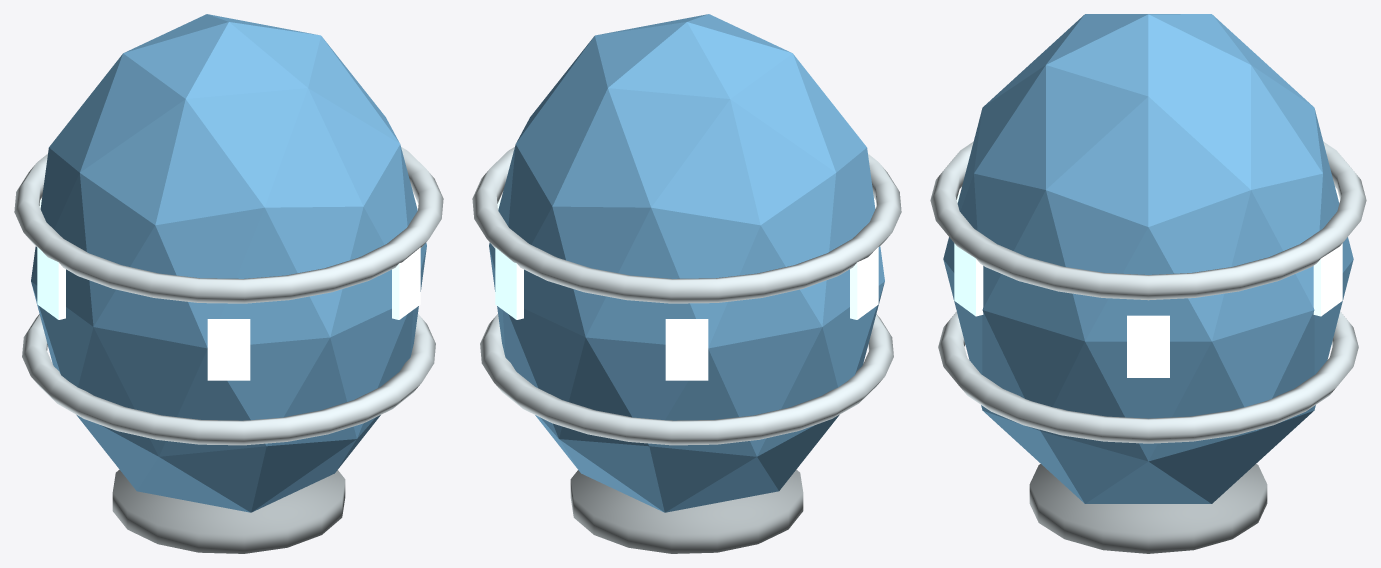
The model's file is egg_lake_00.glb.
The picture shows the model from 3 angles, left to right: view 1: azimuth 30°, elevation 25°; view 2: azimuth 150°, elevation 25°; view 3: azimuth 270°, elevation 25°; orthographic projection.
Parts seen in each view (by area): view 1: ico; view 2: ico; view 3: ico.
Boxes of the visible parts, x1=… form: ico: x1=14, y1=14, x2=443, y2=553; ico: x1=472, y1=14, x2=901, y2=553; ico: x1=930, y1=14, x2=1366, y2=553.
Bounding box in the file's own units: 0.8078 × 1 × 0.8078.
